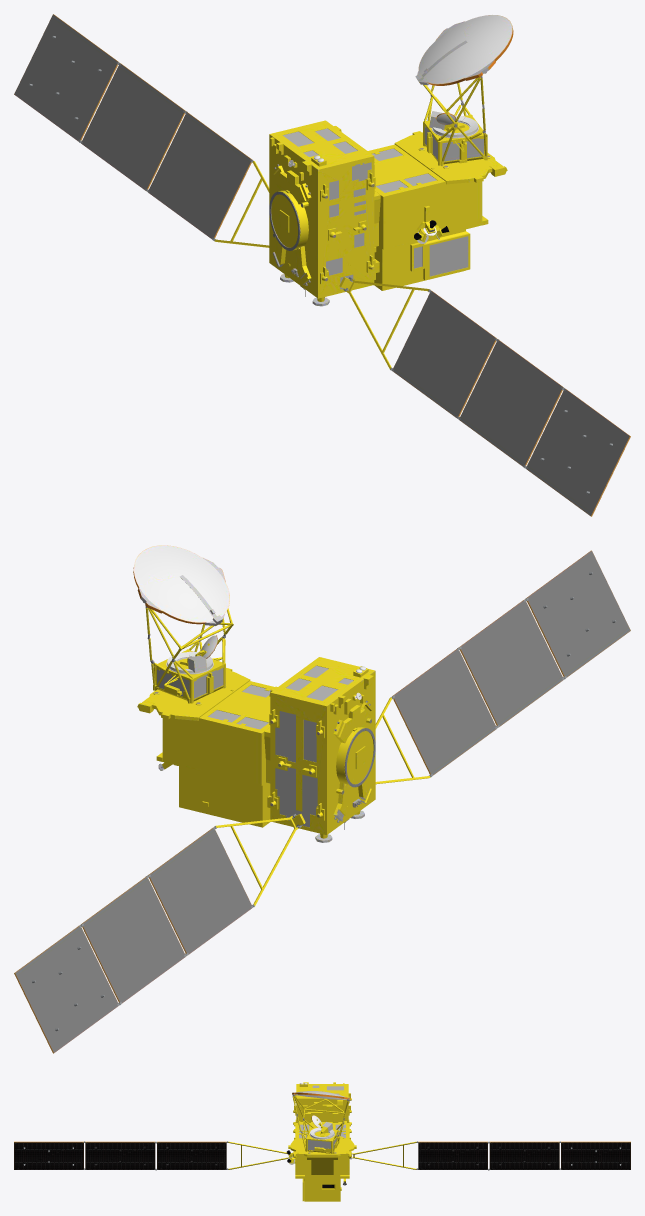
Rendered from ggw.glb.
The picture shows the model from 3 angles, top to bottom: view 1: azimuth 30°, elevation 25°; view 2: azimuth 150°, elevation 25°; view 3: azimuth 270°, elevation 25°; orthographic projection. The views are drawn at different scales.
Parts seen in each view (by area): view 1: GOSAT-GW_SAP001, GOSAT-GW_SAP002, GOSAT-GW_MB, GOSAT-GW_IB, GOSAT-GW_AMSR_antenna, GOSAT-GW_TANSO; view 2: GOSAT-GW_SAP002, GOSAT-GW_SAP001, GOSAT-GW_MB, GOSAT-GW_IB, GOSAT-GW_AMSR_antenna, GOSAT-GW_TANSO; view 3: GOSAT-GW_SAP002, GOSAT-GW_SAP001, GOSAT-GW_IB, GOSAT-GW_MB, GOSAT-GW_AMSR_antenna, GOSAT-GW_TANSO, GOSAT-GW_AMSR.
Part boxes in pixels (box(x1,y1,x2,y2)): GOSAT-GW_SAP001: box(339, 277, 630, 516); GOSAT-GW_SAP002: box(14, 14, 269, 247); GOSAT-GW_MB: box(269, 120, 380, 306); GOSAT-GW_IB: box(368, 131, 507, 249); GOSAT-GW_AMSR_antenna: box(415, 15, 513, 166); GOSAT-GW_TANSO: box(374, 229, 470, 290); GOSAT-GW_SAP002: box(14, 814, 305, 1053); GOSAT-GW_SAP001: box(375, 550, 630, 784); GOSAT-GW_MB: box(264, 657, 375, 842); GOSAT-GW_IB: box(137, 668, 274, 785); GOSAT-GW_AMSR_antenna: box(133, 545, 233, 703); GOSAT-GW_TANSO: box(179, 766, 270, 827); GOSAT-GW_SAP002: box(349, 1141, 630, 1170); GOSAT-GW_SAP001: box(14, 1141, 288, 1170); GOSAT-GW_IB: box(286, 1123, 356, 1185); GOSAT-GW_MB: box(293, 1082, 351, 1156); GOSAT-GW_AMSR_antenna: box(292, 1091, 350, 1153); GOSAT-GW_TANSO: box(302, 1177, 341, 1201); GOSAT-GW_AMSR: box(311, 1115, 332, 1136).
Size of the model in its own units: 5.11 by 5.31 by 23.05.
Materials: 5 (5 with a texture image).
